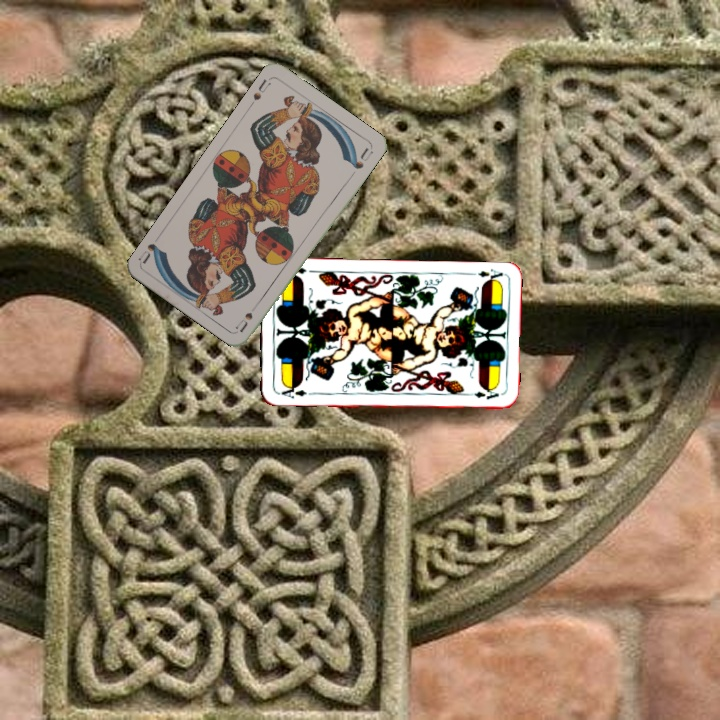EA: (465, 265, 505, 285), (274, 381, 309, 401)
SU: (233, 297, 263, 335), (245, 75, 273, 110)
